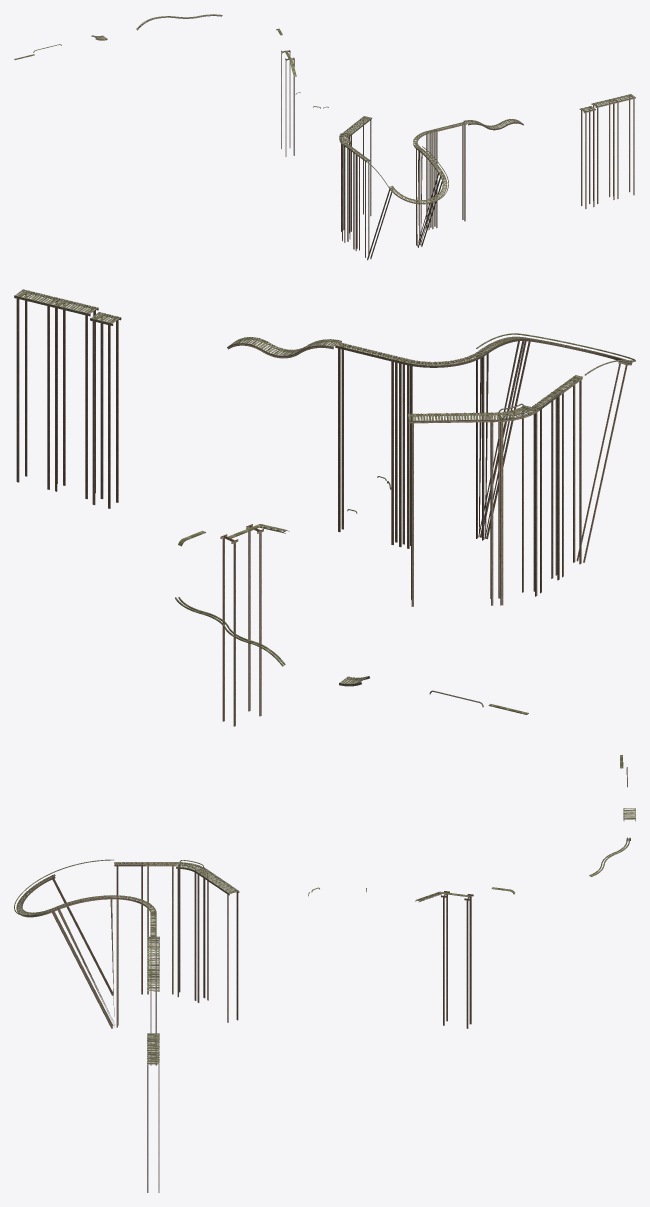
3 views of the same model, one above another, from view 1: azimuth 30°, elevation 25°; view 2: azimuth 150°, elevation 25°; view 3: azimuth 270°, elevation 25° (orthographic). The views are drawn at different scales.
Visible parts, largest first — view 1: Ramp.003, Ramp.006, Ramp.014, Ramp.010, Ramp.007, Ramp.009, Ramp.002, Ramp.004, Ramp.043, Ramp, Ramp.005, Ramp.013; view 2: Ramp.003, Ramp.010, Ramp.002, Ramp.013, Ramp.043, Ramp.006, Ramp.009, Ramp.004, Ramp, Ramp.014, Ramp.007, Ramp.005; view 3: Ramp.014, Ramp.013, Ramp.043, Ramp.006, Ramp.005, Ramp.002, Ramp.004.
Boxes of the visible parts, x1,y1,x2,y2 form: Ramp.003: (429, 121, 466, 229); Ramp.006: (367, 173, 447, 260); Ramp.014: (343, 116, 371, 231); Ramp.010: (579, 106, 595, 208); Ramp.007: (343, 143, 358, 249); Ramp.009: (591, 99, 615, 203); Ramp.002: (612, 94, 635, 198); Ramp.004: (413, 130, 430, 245); Ramp.043: (281, 50, 294, 156); Ramp: (355, 152, 369, 257); Ramp.005: (417, 148, 443, 246); Ramp.013: (339, 133, 350, 241); Ramp.003: (335, 342, 407, 546); Ramp.010: (90, 312, 121, 508); Ramp.002: (14, 289, 60, 489); Ramp.013: (496, 405, 539, 605); Ramp.043: (220, 524, 263, 726); Ramp.006: (480, 337, 632, 562); Ramp.009: (52, 298, 98, 499); Ramp.004: (404, 351, 485, 548); Ramp: (554, 375, 582, 577); Ramp.014: (408, 412, 496, 606); Ramp.007: (532, 391, 560, 593); Ramp.005: (478, 336, 528, 538); Ramp.014: (196, 869, 239, 1022); Ramp.013: (175, 862, 206, 1000); Ramp.043: (441, 891, 473, 1028); Ramp.006: (16, 874, 113, 1028); Ramp.005: (55, 895, 114, 1025); Ramp.002: (147, 1051, 159, 1192); Ramp.004: (114, 895, 156, 1027).
Size of the model in its own units: 11073 by 2916 by 10102.
